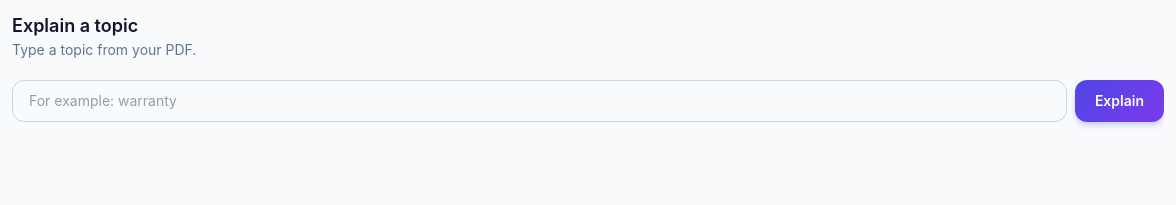
Scenario: ExplainPanel (simplified) › does not call the server for a one-letter topic
The width and height of the screenshot is (1176, 205).
Type "a" into the field named "Topic to explain".
click(539, 101); type("a")  # box [12,80,1067,122]
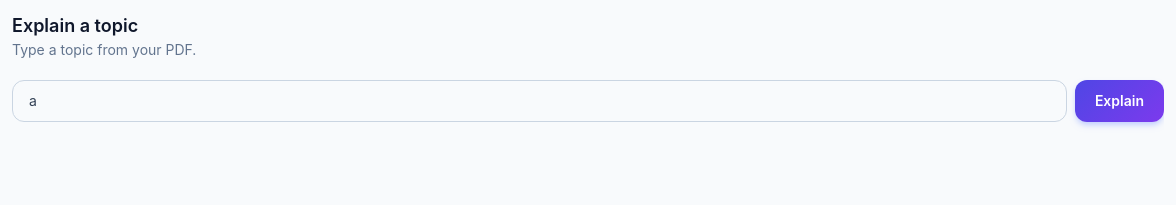
Click the button "Explain".
click(1119, 101)  # box [1075,80,1164,122]
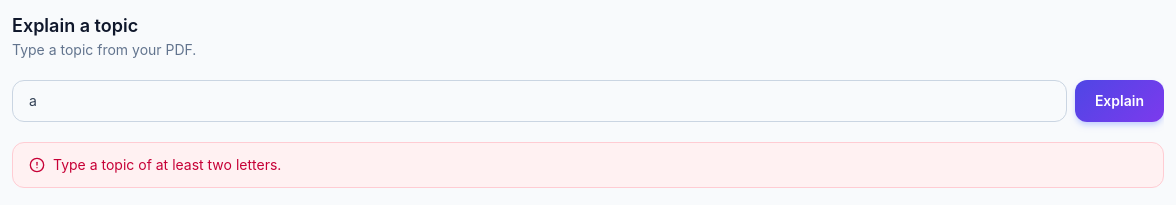
Result: the message shows "at least two letters" at [53,156,281,173]
